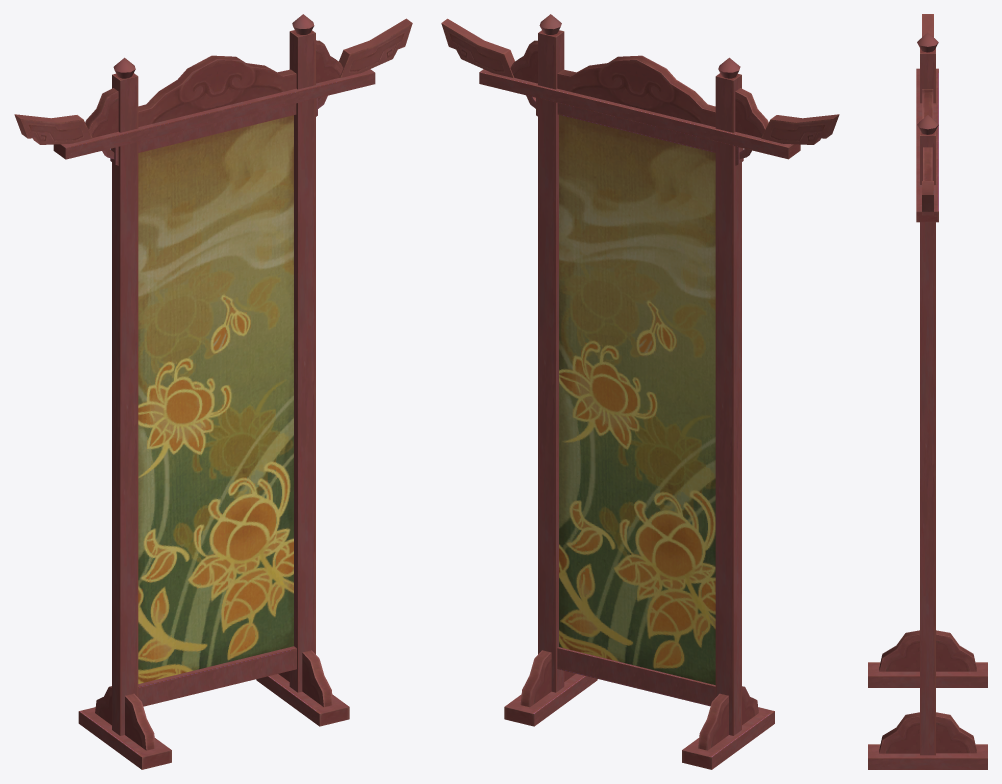
The model's file is Homeworld_Interior_Ly_Decoration_Ajar_LanternRiteScreen_02_Vo.fbx.
3 views of the same model, side by side, from view 1: azimuth 30°, elevation 25°; view 2: azimuth 150°, elevation 25°; view 3: azimuth 270°, elevation 25° (orthographic). The views are drawn at different scales.
Visible parts, largest first — view 1: Area_Ly_Prop_LYG_Hdj_Screen_04_Vo; view 2: Area_Ly_Prop_LYG_Hdj_Screen_04_Vo; view 3: Area_Ly_Prop_LYG_Hdj_Screen_04_Vo.
Boxes of the visible parts, x1,y1,x2,y2 form: Area_Ly_Prop_LYG_Hdj_Screen_04_Vo: [14, 14, 412, 769]; Area_Ly_Prop_LYG_Hdj_Screen_04_Vo: [441, 14, 839, 769]; Area_Ly_Prop_LYG_Hdj_Screen_04_Vo: [868, 14, 987, 769].
Bounding box in the file's own units: 2.3 × 3.84 × 0.6418.
1 material, 1 textured.
